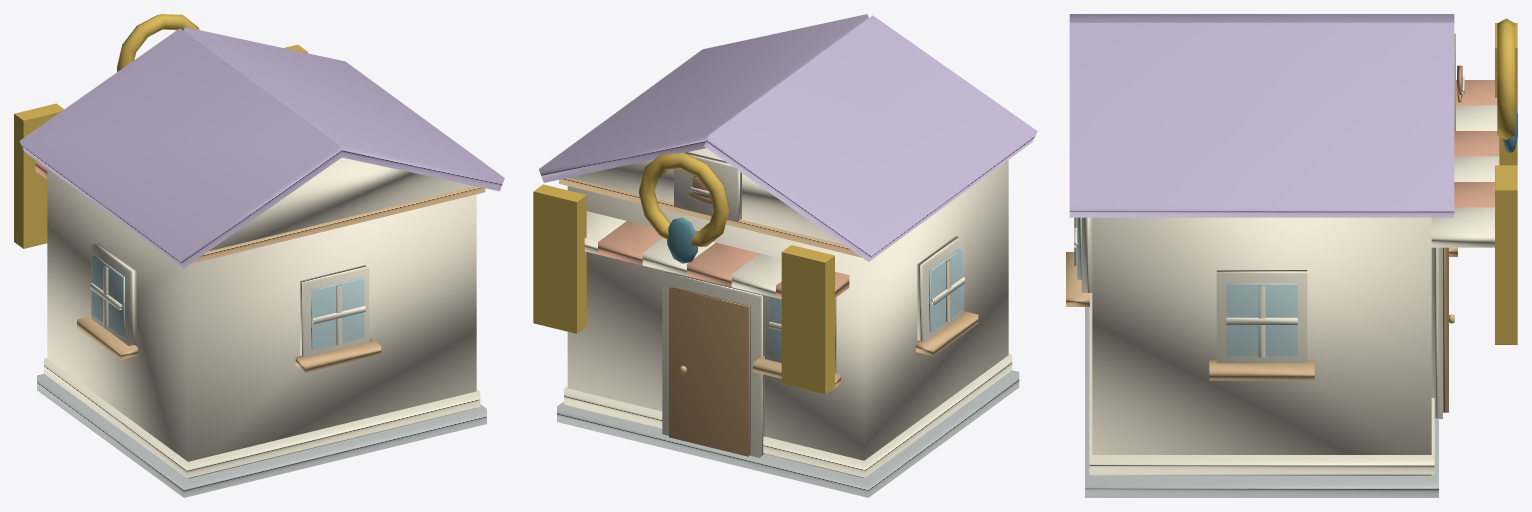
File: accessories_low.glb
3 renders of one model, left to right at view 1: azimuth 30°, elevation 25°; view 2: azimuth 150°, elevation 25°; view 3: azimuth 270°, elevation 25°, orthographic. The views are drawn at different scales.
Size of the model in its own units: 3.62 by 3.4 by 3.6.
